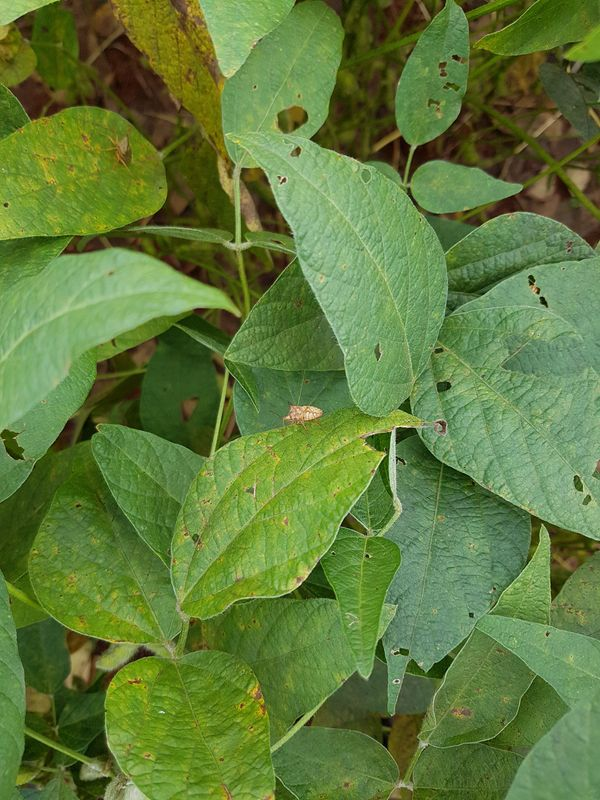Euschistus_heros_adulto: (272, 397, 328, 437), (99, 130, 138, 174)
